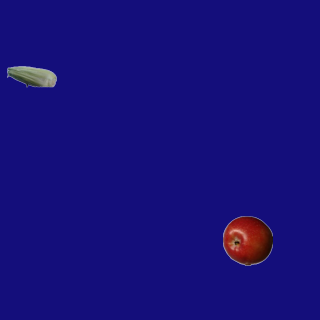Apple Braeburn: (222, 215, 272, 265)
Corn Husk: (6, 51, 56, 101)
